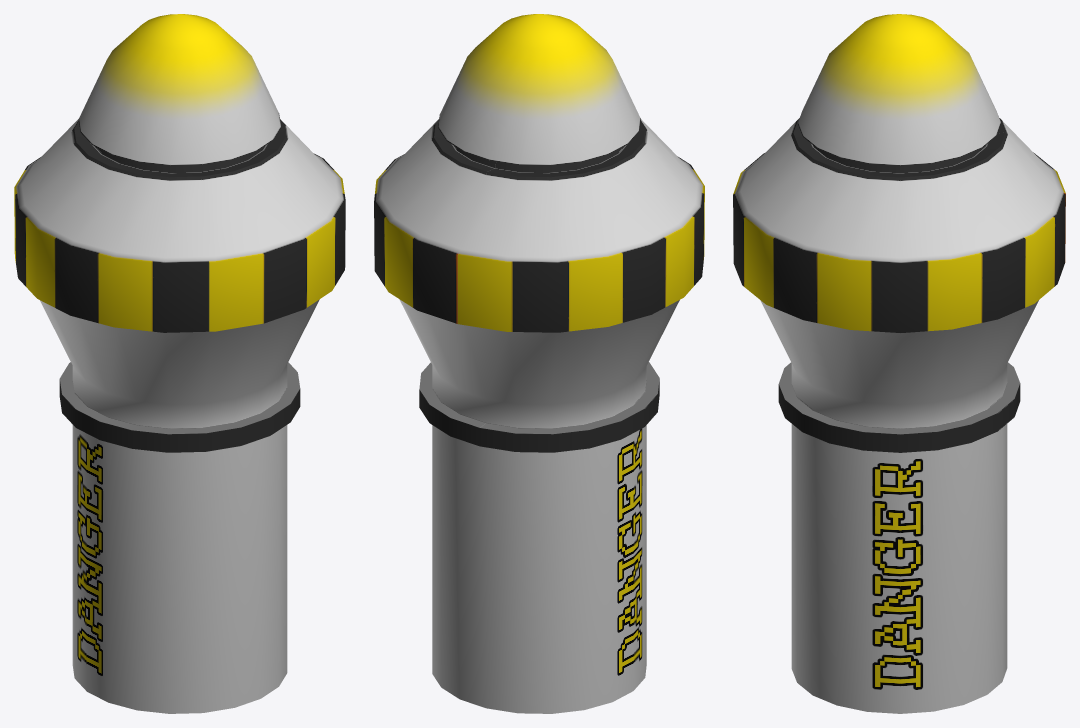
File: rocket.fbx
3 renders of one model, left to right at view 1: azimuth 30°, elevation 25°; view 2: azimuth 150°, elevation 25°; view 3: azimuth 270°, elevation 25°, orthographic.
Parts seen in each view (by area): view 1: pCylinder1; view 2: pCylinder1; view 3: pCylinder1.
Boxes of the visible parts, x1,y1,x2,y2 form: pCylinder1: [14, 14, 345, 713]; pCylinder1: [374, 14, 704, 713]; pCylinder1: [733, 14, 1065, 713].
Size of the model in its own units: 1.86 by 4.04 by 1.86.
